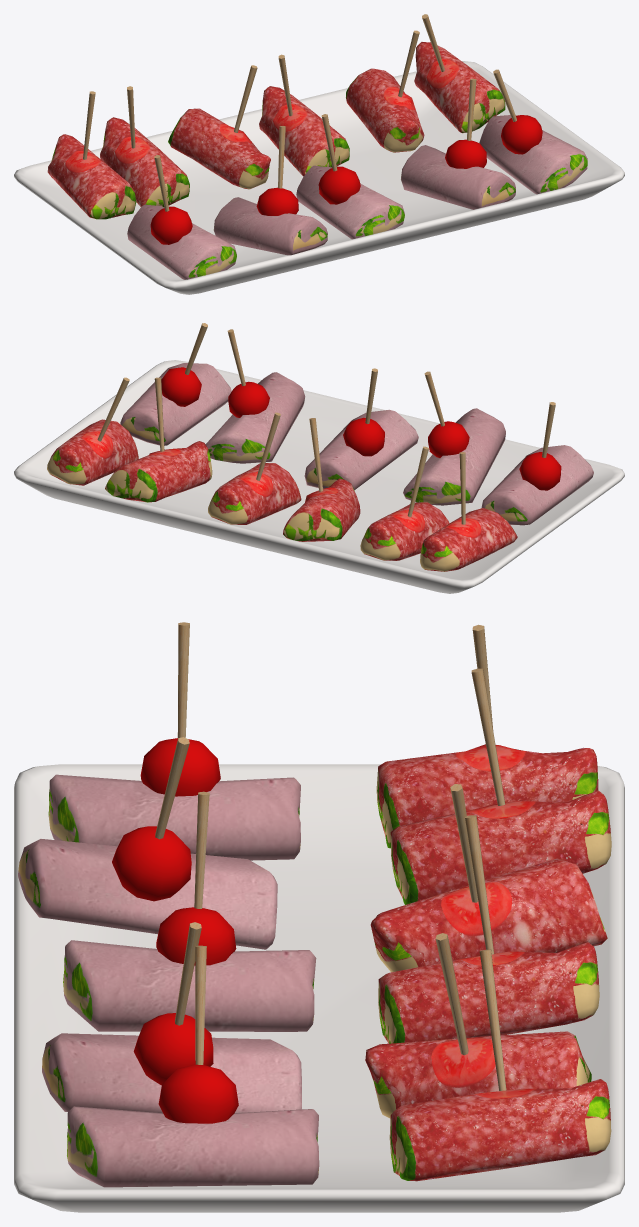
Rendered from BuffetSnacks02_1.FBX.
3 renders of one model, top to bottom at view 1: azimuth 30°, elevation 25°; view 2: azimuth 150°, elevation 25°; view 3: azimuth 270°, elevation 25°, orthographic. The views are drawn at different scales.
Parts seen in each view (by area): view 1: BuffetSnacks02_1; view 2: BuffetSnacks02_1; view 3: BuffetSnacks02_1.
Part boxes in pixels (<box>): BuffetSnacks02_1: <box>14,14,624,294</box>; BuffetSnacks02_1: <box>14,323,624,593</box>; BuffetSnacks02_1: <box>14,622,624,1212</box>.
Size of what is drawn, in the model's own units: 0.4959 by 0.1207 by 0.2973.
